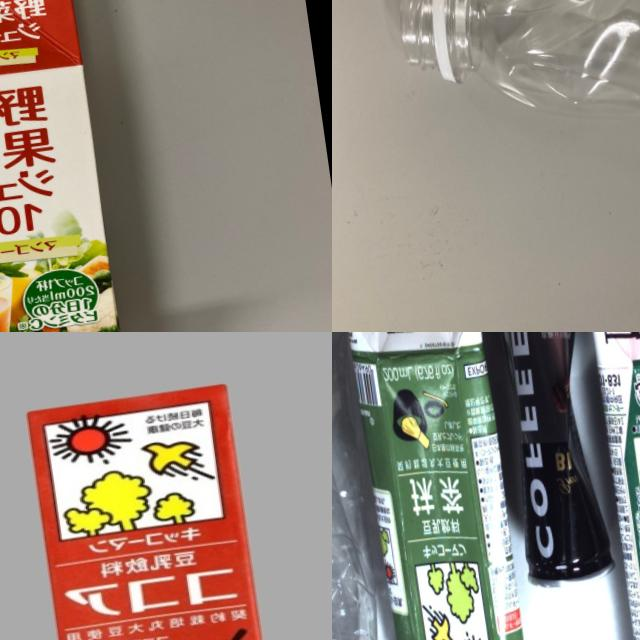Aluminium Foil: (18, 373, 283, 640), (342, 332, 545, 640), (0, 0, 151, 332)
Can: (483, 332, 621, 594)
Transparent Plastic Bottle: (387, 0, 640, 157), (332, 332, 420, 640)
